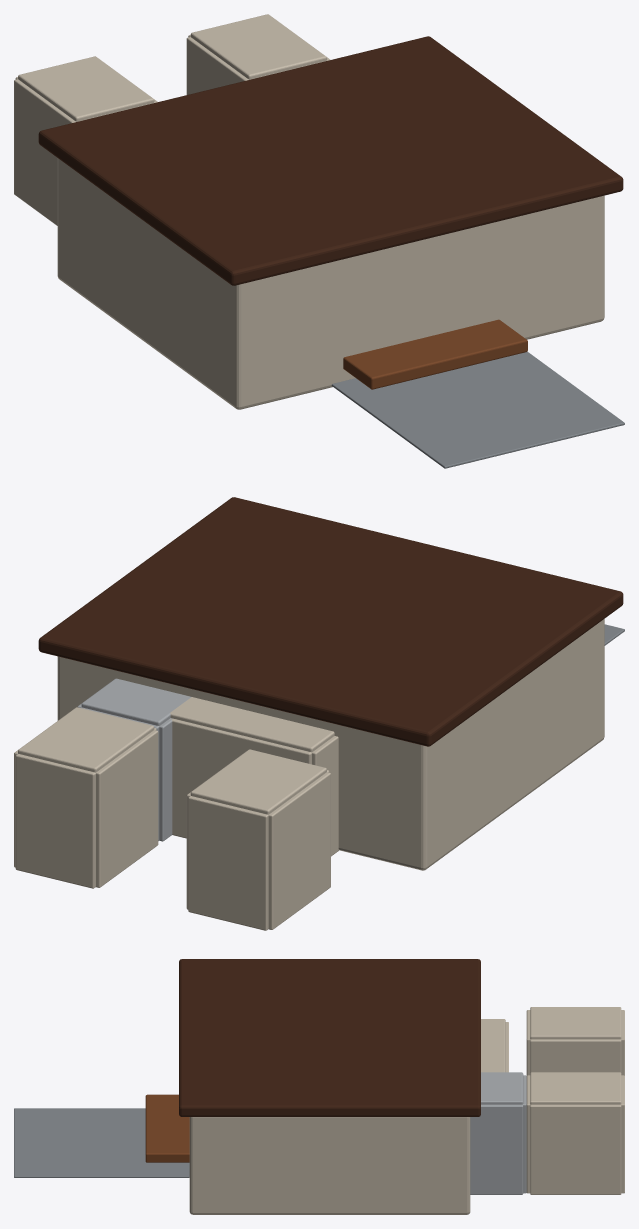
Rendered from BHC_BLD_63RD_HOUSE_010.fbx.
The picture shows the model from 3 angles, top to bottom: view 1: azimuth 30°, elevation 25°; view 2: azimuth 150°, elevation 25°; view 3: azimuth 270°, elevation 25°; orthographic projection. The views are drawn at different scales.
Visible parts, largest first — view 1: SM_BHC_63rd_House_010_Roof, SM_BHC_63rd_House_010_Exterior, SM_BHC_63rd_House_010_Driveway, SM_BHC_63rd_House_010_Porch, SM_BHC_63rd_House_010_BedroomA_Ceiling, SM_BHC_63rd_House_010_BedroomB_Ceiling, SM_BHC_63rd_House_010_BedroomA_Wall_W, SM_BHC_63rd_House_010_BedroomB_Wall_W; view 2: SM_BHC_63rd_House_010_Roof, SM_BHC_63rd_House_010_Exterior, SM_BHC_63rd_House_010_BedroomA_Wall_N, SM_BHC_63rd_House_010_BedroomB_Wall_N, SM_BHC_63rd_House_010_BedroomA_Wall_W, SM_BHC_63rd_House_010_BedroomB_Wall_W, SM_BHC_63rd_House_010_Living_Wall_N, SM_BHC_63rd_House_010_BedroomA_Ceiling, SM_BHC_63rd_House_010_BedroomB_Ceiling, SM_BHC_63rd_House_010_Living_Ceiling, SM_BHC_63rd_House_010_Bath_Ceiling, SM_BHC_63rd_House_010_Bath_Wall_W (+1 smaller); view 3: SM_BHC_63rd_House_010_Roof, SM_BHC_63rd_House_010_Exterior, SM_BHC_63rd_House_010_Driveway, SM_BHC_63rd_House_010_BedroomB_Wall_E, SM_BHC_63rd_House_010_Bath_Wall_E, SM_BHC_63rd_House_010_BedroomA_Wall_E, SM_BHC_63rd_House_010_BedroomA_Ceiling, SM_BHC_63rd_House_010_BedroomB_Ceiling, SM_BHC_63rd_House_010_Porch, SM_BHC_63rd_House_010_Bath_Ceiling, SM_BHC_63rd_House_010_Living_Ceiling, SM_BHC_63rd_House_010_BedroomB_Wall_S (+2 smaller).
Part boxes in pixels (x1,y1,x2,y2): SM_BHC_63rd_House_010_Roof: (38, 36, 623, 285); SM_BHC_63rd_House_010_Exterior: (57, 158, 604, 409); SM_BHC_63rd_House_010_Driveway: (331, 351, 624, 468); SM_BHC_63rd_House_010_Porch: (343, 319, 527, 389); SM_BHC_63rd_House_010_BedroomA_Ceiling: (18, 56, 154, 121); SM_BHC_63rd_House_010_BedroomB_Ceiling: (190, 14, 326, 79); SM_BHC_63rd_House_010_BedroomA_Wall_W: (14, 79, 76, 225); SM_BHC_63rd_House_010_BedroomB_Wall_W: (186, 37, 248, 94); SM_BHC_63rd_House_010_Roof: (38, 497, 623, 746); SM_BHC_63rd_House_010_Exterior: (57, 619, 604, 870); SM_BHC_63rd_House_010_BedroomA_Wall_N: (188, 796, 268, 930); SM_BHC_63rd_House_010_BedroomB_Wall_N: (15, 753, 95, 888); SM_BHC_63rd_House_010_BedroomA_Wall_W: (268, 772, 330, 929); SM_BHC_63rd_House_010_BedroomB_Wall_W: (96, 730, 158, 887); SM_BHC_63rd_House_010_Living_Wall_N: (170, 718, 311, 838); SM_BHC_63rd_House_010_BedroomA_Ceiling: (190, 749, 326, 814); SM_BHC_63rd_House_010_BedroomB_Ceiling: (18, 707, 154, 772); SM_BHC_63rd_House_010_Living_Ceiling: (170, 697, 334, 752); SM_BHC_63rd_House_010_Bath_Ceiling: (81, 678, 190, 725); SM_BHC_63rd_House_010_Bath_Wall_W: (159, 718, 172, 841); SM_BHC_63rd_House_010_Roof: (179, 959, 480, 1116); SM_BHC_63rd_House_010_Exterior: (189, 1117, 470, 1214); SM_BHC_63rd_House_010_Driveway: (14, 1108, 189, 1177); SM_BHC_63rd_House_010_BedroomB_Wall_E: (530, 1104, 621, 1194); SM_BHC_63rd_House_010_Bath_Wall_E: (470, 1104, 523, 1194); SM_BHC_63rd_House_010_BedroomA_Wall_E: (530, 1039, 621, 1072); SM_BHC_63rd_House_010_BedroomA_Ceiling: (530, 1007, 621, 1039); SM_BHC_63rd_House_010_BedroomB_Ceiling: (530, 1072, 621, 1104); SM_BHC_63rd_House_010_Porch: (145, 1094, 189, 1162); SM_BHC_63rd_House_010_Bath_Ceiling: (481, 1072, 523, 1104); SM_BHC_63rd_House_010_Living_Ceiling: (481, 1019, 505, 1072); SM_BHC_63rd_House_010_BedroomB_Wall_S: (526, 1075, 530, 1193).
Size of the model in its own units: 10 by 3.58 by 17.4.
